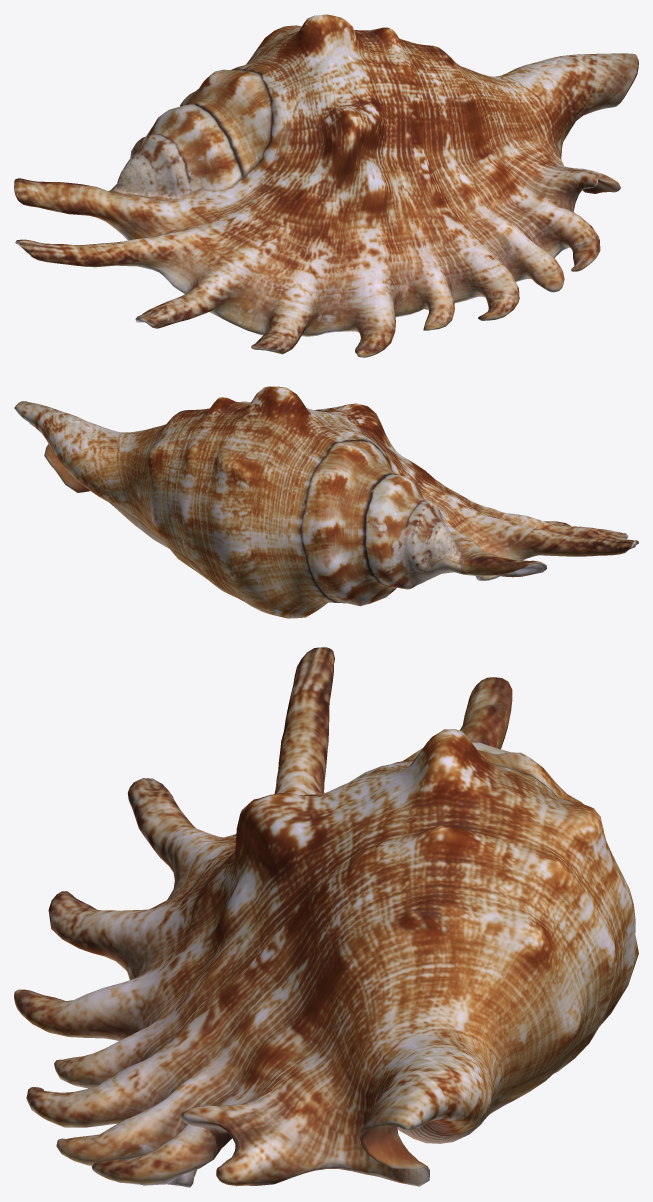
Rendered from lambis_shell.glb.
The picture shows the model from 3 angles, top to bottom: view 1: azimuth 30°, elevation 25°; view 2: azimuth 150°, elevation 25°; view 3: azimuth 270°, elevation 25°; orthographic projection. The views are drawn at different scales.
Parts seen in each view (by area): view 1: lambis_shell; view 2: lambis_shell; view 3: lambis_shell.
Part boxes in pixels (x1,y1,x2,y2): lambis_shell: [14, 14, 638, 357]; lambis_shell: [14, 386, 638, 618]; lambis_shell: [14, 647, 638, 1187].
Size of the model in its own units: 0.1395 by 0.0465 by 0.0745.
Materials: 1 (1 with a texture image).
